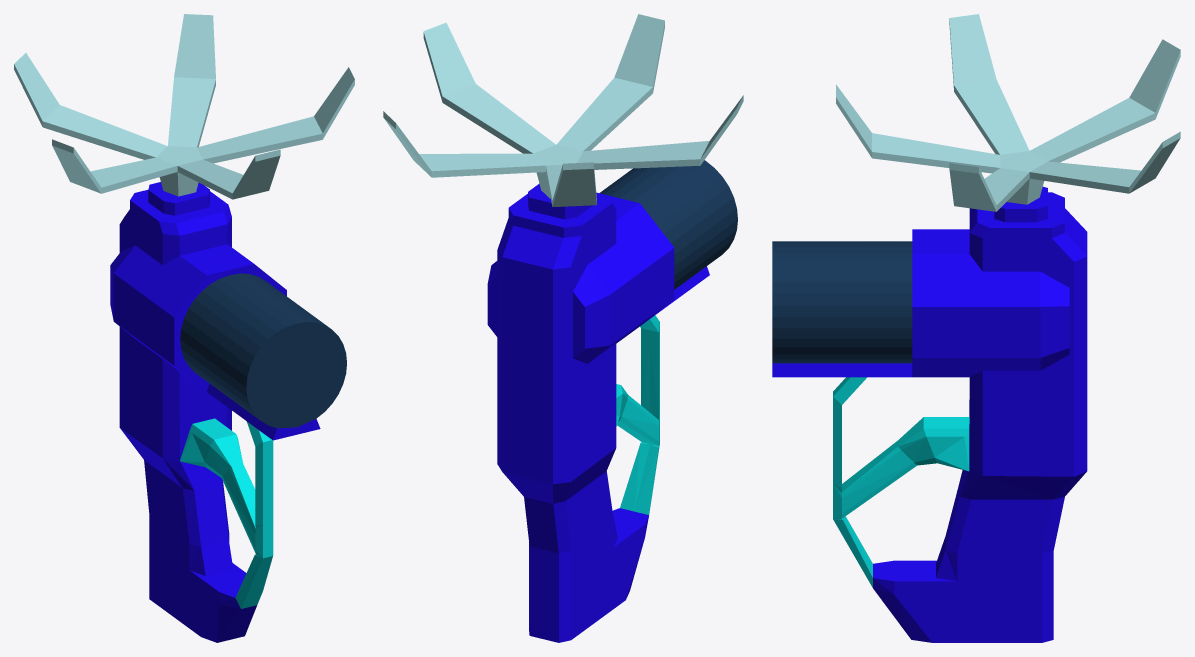
File: gameGrappler.fbx
The picture shows the model from 3 angles, left to right: view 1: azimuth 30°, elevation 25°; view 2: azimuth 150°, elevation 25°; view 3: azimuth 270°, elevation 25°; orthographic projection. The views are drawn at different scales.
Visible parts, largest first — view 1: Cylinder.001, Cone; view 2: Cylinder.001, Cone; view 3: Cylinder.001, Cone.
Part boxes in pixels (box(x1,y1,x2,y2)): Cylinder.001: box(110, 182, 346, 642); Cone: box(14, 14, 354, 199); Cylinder.001: box(487, 160, 737, 642); Cone: box(383, 14, 743, 207); Cylinder.001: box(772, 186, 1087, 642); Cone: box(836, 14, 1180, 211).
Bounding box in the file's own units: 873 × 1442 × 984.
